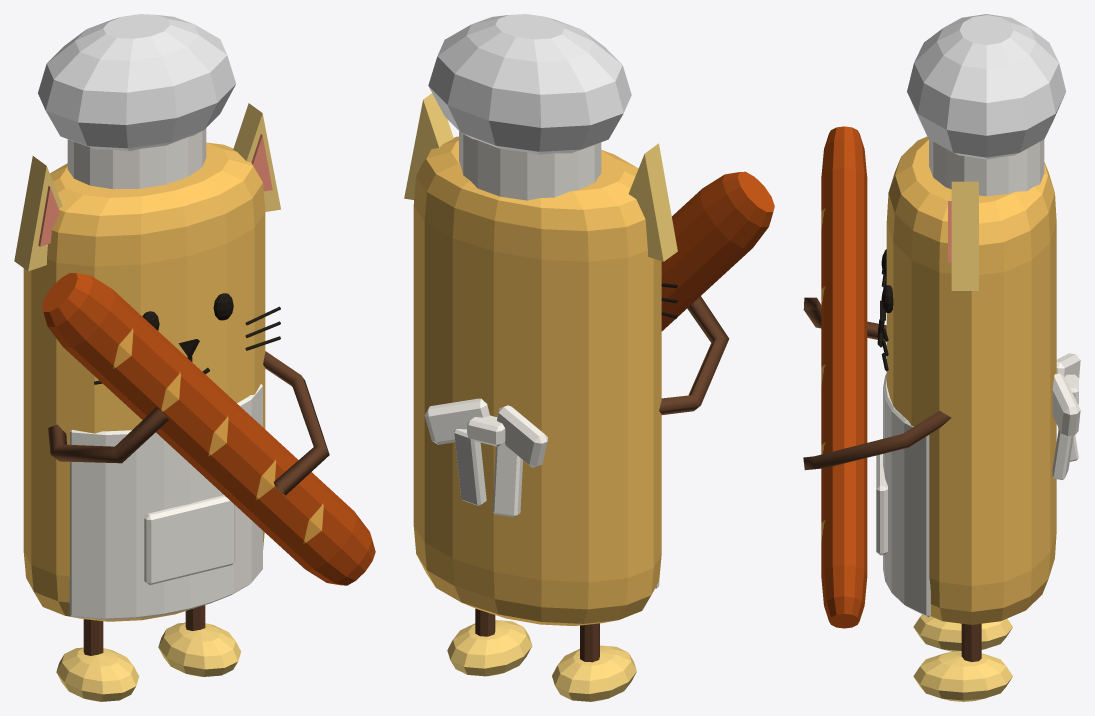
File: char_baker_cat_rebuild_v4.glb
3 views of the same model, side by side, from view 1: azimuth 30°, elevation 25°; view 2: azimuth 150°, elevation 25°; view 3: azimuth 270°, elevation 25° (orthographic). The views are drawn at different scales.
Visible parts, largest first — view 1: BC3_Body_Capsule, BC3_Baguette, BC3_Apron_Front, BC3_Hat_Puff, BC3_Apron_Pocket, BC3_Hat_Band, BC3_Foot_R, BC3_Foot_L, BC3_Ear_L, BC3_Arm_R_LowerWrap, BC3_Arm_L_UpperSupport, BC3_Ear_R (+3 smaller); view 2: BC3_Body_Capsule, BC3_Hat_Puff, BC3_Baguette, BC3_Hat_Band, BC3_Foot_R, BC3_Foot_L, BC3_Ear_L, BC3_Arm_L_UpperSupport, BC3_Ear_R, BC3_Ribbon_L, BC3_Bow_L, BC3_Bow_R (+3 smaller); view 3: BC3_Body_Capsule, BC3_Baguette, BC3_Hat_Puff, BC3_Apron_Front, BC3_Hat_Band, BC3_Foot_R, BC3_Ear_R, BC3_Arm_R_LowerWrap, BC3_Foot_L, BC3_Bow_R, BC3_Apron_Pocket, BC3_Leg_R (+3 smaller).
Part boxes in pixels (x1,y1,x2,y2): BC3_Body_Capsule: (23,142,265,621); BC3_Baguette: (42,273,375,585); BC3_Apron_Front: (69,384,262,619); BC3_Hat_Puff: (38,14,235,151); BC3_Apron_Pocket: (144,495,235,585); BC3_Hat_Band: (67,128,206,189); BC3_Foot_R: (158,622,241,676); BC3_Foot_L: (56,647,139,701); BC3_Ear_L: (14,156,62,271); BC3_Arm_R_LowerWrap: (263,351,329,495); BC3_Arm_L_UpperSupport: (48,407,168,463); BC3_Ear_R: (233,103,280,211); BC3_Body_Capsule: (413,136,661,626); BC3_Hat_Puff: (428,14,631,154); BC3_Baguette: (661,171,774,331); BC3_Hat_Band: (459,131,601,200); BC3_Foot_R: (447,620,532,676); BC3_Foot_L: (552,645,636,701); BC3_Ear_L: (628,143,677,261); BC3_Arm_L_UpperSupport: (659,296,729,414); BC3_Ear_R: (404,93,453,199); BC3_Ribbon_L: (492,442,522,517); BC3_Bow_L: (497,405,547,467); BC3_Bow_R: (424,398,489,444); BC3_Body_Capsule: (886,136,1056,624); BC3_Baguette: (821,126,867,628); BC3_Hat_Puff: (907,14,1066,159); BC3_Apron_Front: (883,373,930,617); BC3_Hat_Band: (929,139,1044,196); BC3_Foot_R: (913,651,1012,701); BC3_Ear_R: (951,181,978,290); BC3_Arm_R_LowerWrap: (803,410,951,470); BC3_Foot_L: (913,614,1012,651); BC3_Bow_R: (1052,373,1080,436); BC3_Apron_Pocket: (876,454,887,555); BC3_Leg_R: (961,623,981,661).
Bounding box in the file's own units: 3.56 × 6.67 × 2.61.
Materials: 7 (1 with a texture image).
